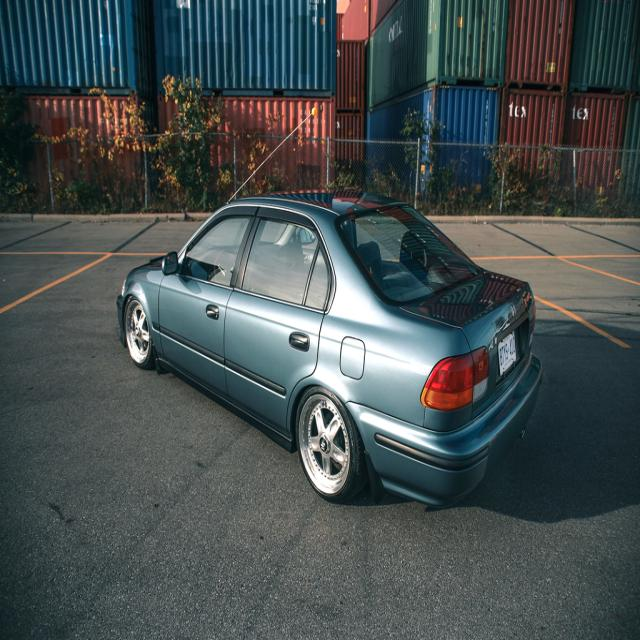car: (114, 189, 541, 513)
